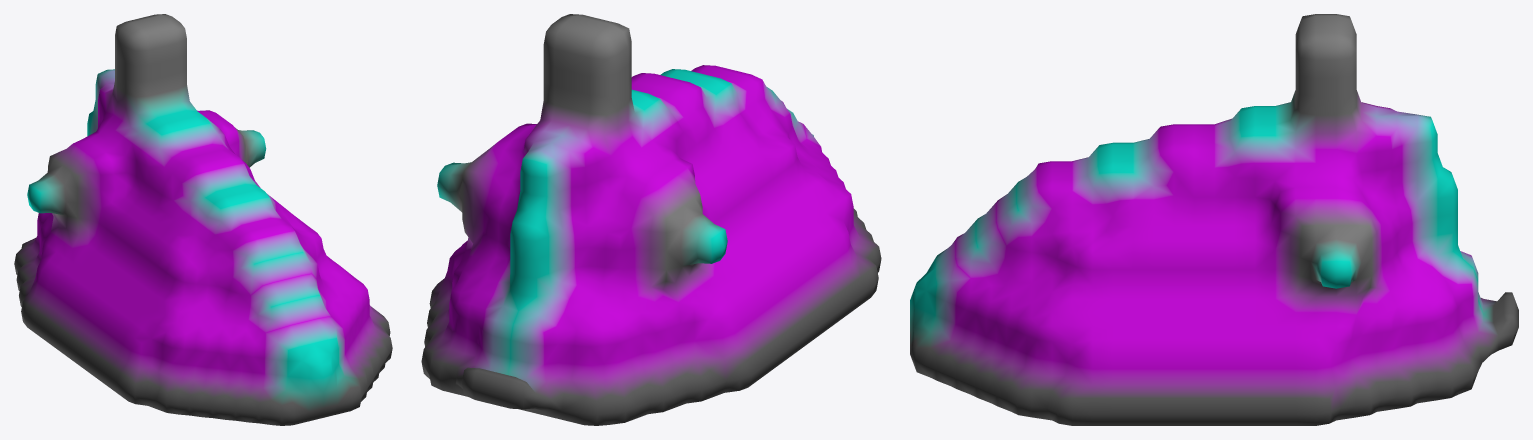
3 views of the same model, side by side, from view 1: azimuth 30°, elevation 25°; view 2: azimuth 150°, elevation 25°; view 3: azimuth 270°, elevation 25° (orthographic). The views are drawn at different scales.
Bounding box in the file's own units: 0.9 × 0.9 × 1.5.
